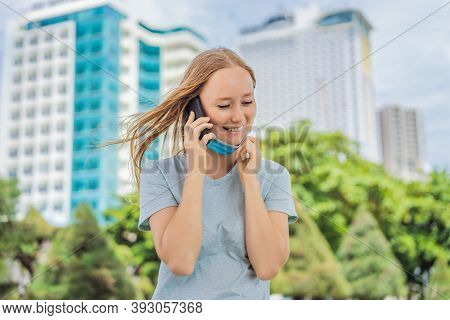mask_weared_incorrect: (189, 59, 256, 156)
